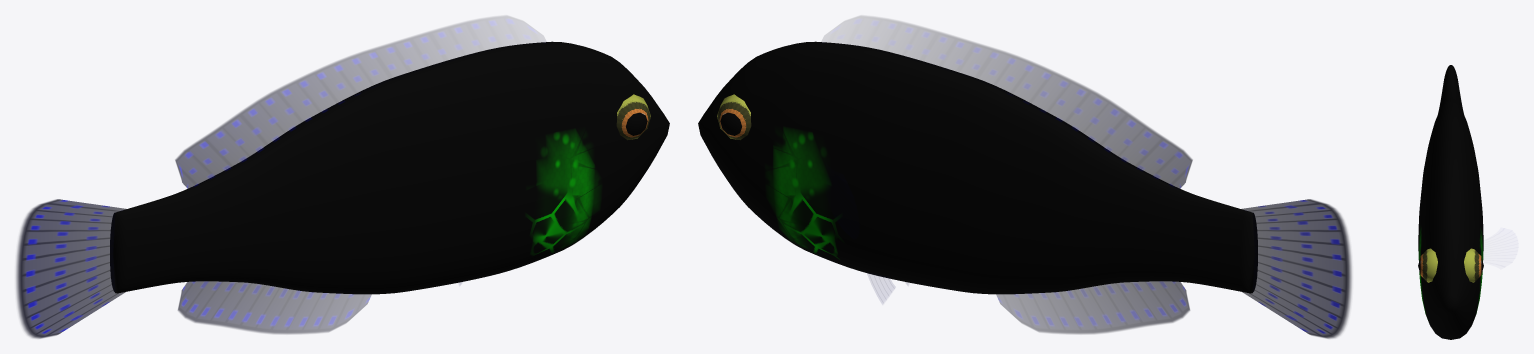
File: leopard_wrasse.glb
The picture shows the model from 3 angles, left to right: view 1: azimuth 30°, elevation 25°; view 2: azimuth 150°, elevation 25°; view 3: azimuth 270°, elevation 25°; orthographic projection. The views are drawn at different scales.
Parts seen in each view (by area): view 1: Body, FinDorsal, FinCaudal, FinAnal, EyeR; view 2: Body, FinDorsal, FinCaudal, FinAnal, EyeL; view 3: Body, EyeL, EyeR.
Boxes of the visible parts, x1=… form: Body: x1=110, y1=41, x2=669, y2=294; FinDorsal: x1=175, y1=16, x2=540, y2=189; FinCaudal: x1=16, y1=199, x2=127, y2=338; FinAnal: x1=178, y1=281, x2=371, y2=333; EyeR: x1=616, y1=94, x2=650, y2=139; Body: x1=698, y1=41, x2=1257, y2=294; FinDorsal: x1=827, y1=16, x2=1192, y2=189; FinCaudal: x1=1240, y1=199, x2=1351, y2=338; FinAnal: x1=996, y1=281, x2=1189, y2=333; EyeL: x1=717, y1=94, x2=751, y2=139; Body: x1=1418, y1=65, x2=1483, y2=339; EyeL: x1=1464, y1=248, x2=1483, y2=282; EyeR: x1=1418, y1=248, x2=1437, y2=282.
Bounding box in the file's own units: 1 × 0.4077 × 0.2379.
Materials: 4 (3 with a texture image).
